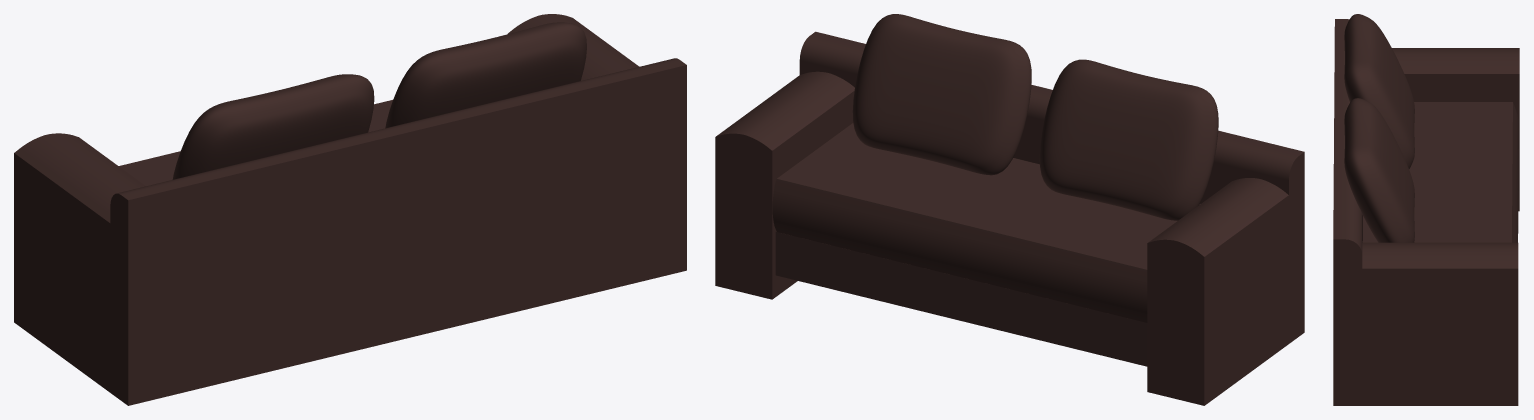
Rendered from Canape1_7.fbx.
The picture shows the model from 3 angles, left to right: view 1: azimuth 30°, elevation 25°; view 2: azimuth 150°, elevation 25°; view 3: azimuth 270°, elevation 25°; orthographic projection. The views are drawn at different scales.
Parts seen in each view (by area): view 1: pCube1068, pCube2517, pCube2516, pCube2518; view 2: pCube1068, pCube2518, pCube2517, pCube2516, pCube2515; view 3: pCube1068, pCube2518, pCube2517, pCube2516.
Boxes of the visible parts, x1,y1,x2,y2 form: pCube1068: (14,14,686,405); pCube2517: (385,22,586,128); pCube2516: (172,74,374,179); pCube2518: (119,100,392,186); pCube1068: (715,31,1304,405); pCube2518: (772,123,1200,322); pCube2517: (852,14,1031,175); pCube2516: (1039,59,1218,220); pCube2515: (775,231,1147,366); pCube1068: (1333,19,1519,405); pCube2518: (1362,102,1518,242); pCube2517: (1344,98,1414,242); pCube2516: (1344,14,1414,168).
Size of the model in its own units: 166 by 74.66 by 59.34.
